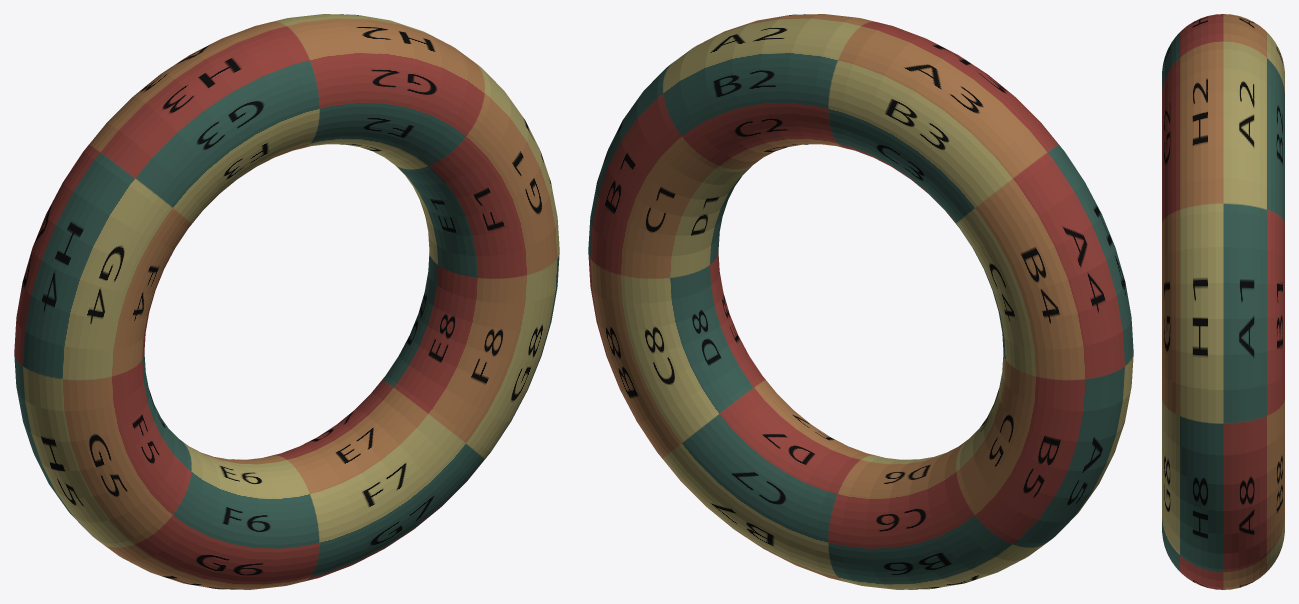
Rendered from texture_torus_R24_r19.glb.
3 views of the same model, side by side, from view 1: azimuth 30°, elevation 25°; view 2: azimuth 150°, elevation 25°; view 3: azimuth 270°, elevation 25° (orthographic). The views are drawn at different scales.
Parts seen in each view (by area): view 1: world; view 2: world; view 3: world.
Part boxes in pixels (x1,y1,x2,y2): world: (14, 14, 559, 589); world: (588, 14, 1133, 589); world: (1162, 14, 1284, 589).
Size of the model in its own units: 33.07 by 33 by 7.05.
1 material, 1 textured.
